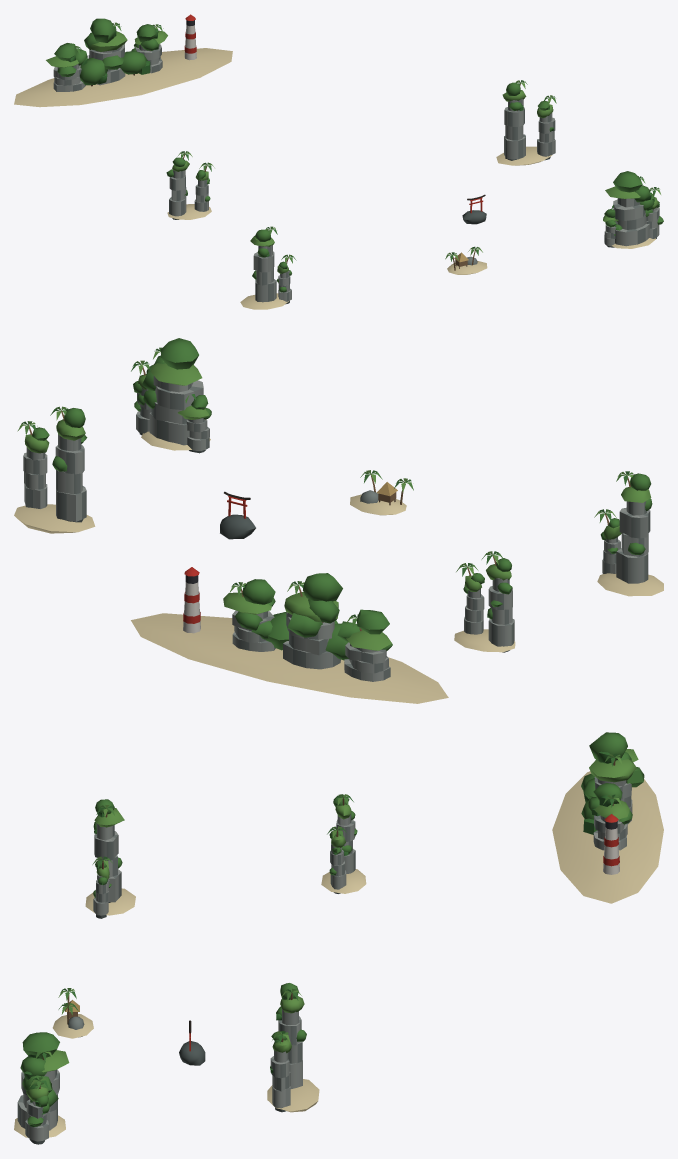
The model's file is sushi-bar-isles.glb.
3 renders of one model, top to bottom at view 1: azimuth 30°, elevation 25°; view 2: azimuth 150°, elevation 25°; view 3: azimuth 270°, elevation 25°, orthographic. The views are drawn at different scales.
Parts seen in each view (by area): view 1: sushi-bar-isles; view 2: sushi-bar-isles; view 3: sushi-bar-isles.
Part boxes in pixels (box(x1,y1,x2,y2)): sushi-bar-isles: box(14, 14, 663, 309); sushi-bar-isles: box(14, 338, 663, 703); sushi-bar-isles: box(14, 732, 663, 1144).
Bounding box in the file's own units: 65.77 × 21.16 × 64.22.
